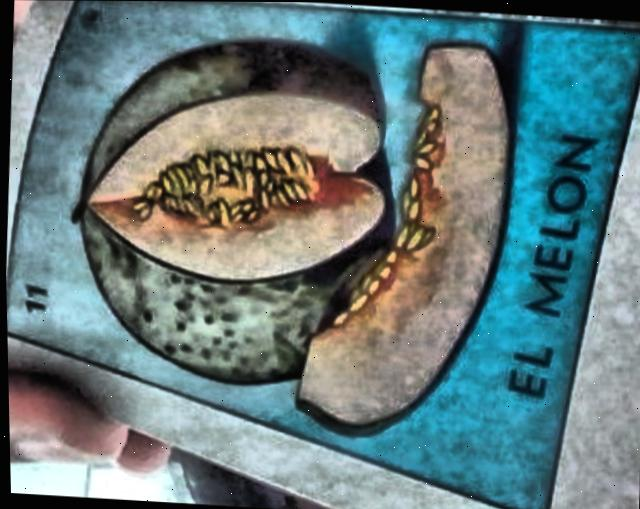El Melon: (6, 0, 640, 509)
